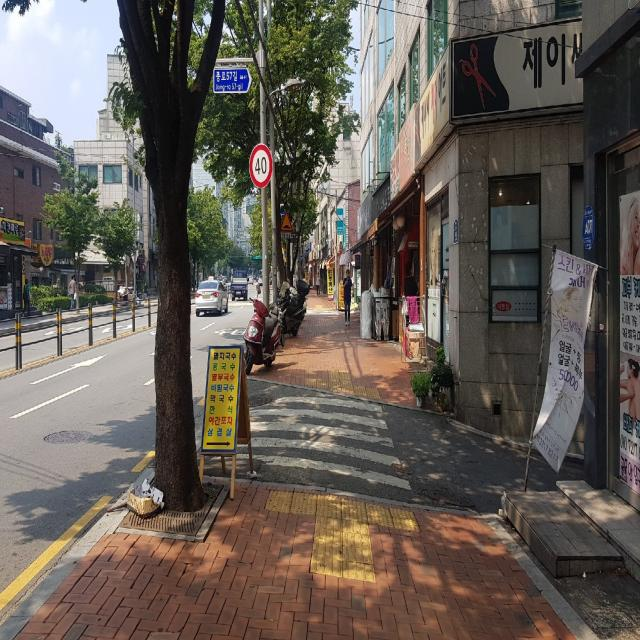횡단보도: (209, 394, 413, 494)
